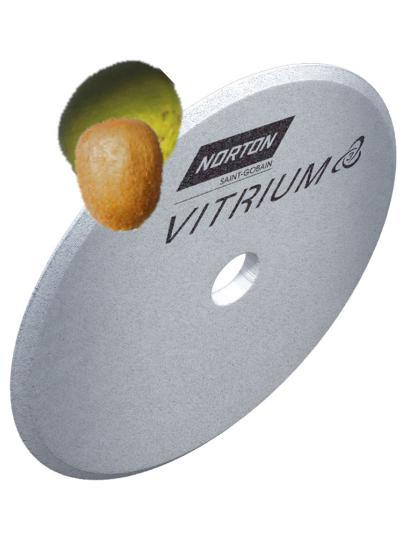Kiwi: (61, 115, 178, 232)
Pomelo: (54, 58, 188, 192)
